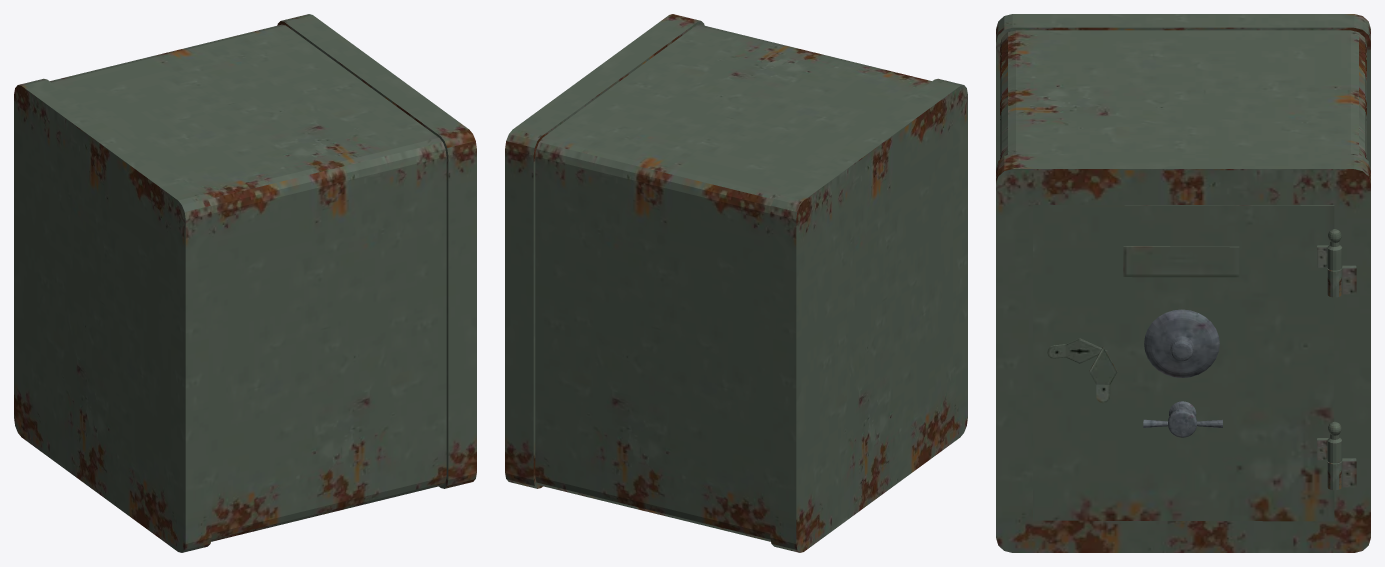
Rendered from safe-documents.glb.
3 renders of one model, left to right at view 1: azimuth 30°, elevation 25°; view 2: azimuth 150°, elevation 25°; view 3: azimuth 270°, elevation 25°, orthographic. The views are drawn at different scales.
Parts seen in each view (by area): view 1: Cube; view 2: Cube; view 3: Cube, Cube.001, Circle.002, Circle.001.
Boxes of the visible parts, x1,y1,x2,y2 form: Cube: [14, 14, 476, 552]; Cube: [505, 14, 967, 552]; Cube: [996, 14, 1370, 552]; Cube.001: [1033, 205, 1342, 521]; Circle.002: [1327, 265, 1356, 297]; Circle.001: [1327, 458, 1356, 490].
Bounding box in the file's own units: 0.5592 × 0.6 × 0.531.
1 material, 1 textured.
